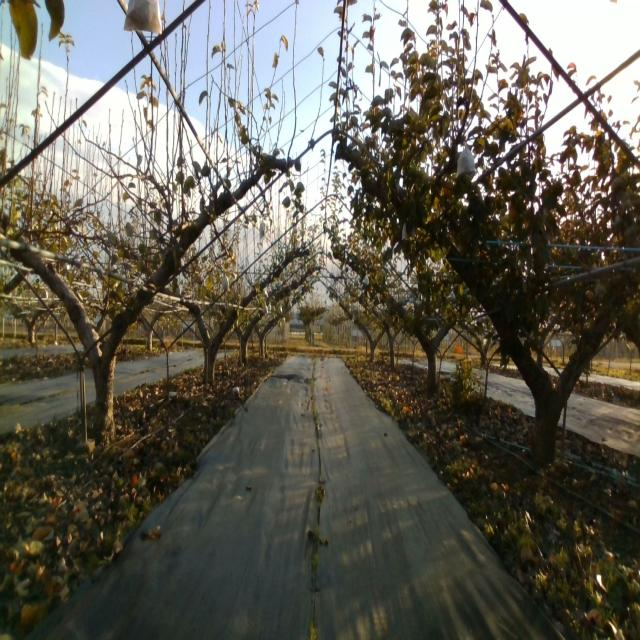pearbags: (454, 148, 476, 179)
